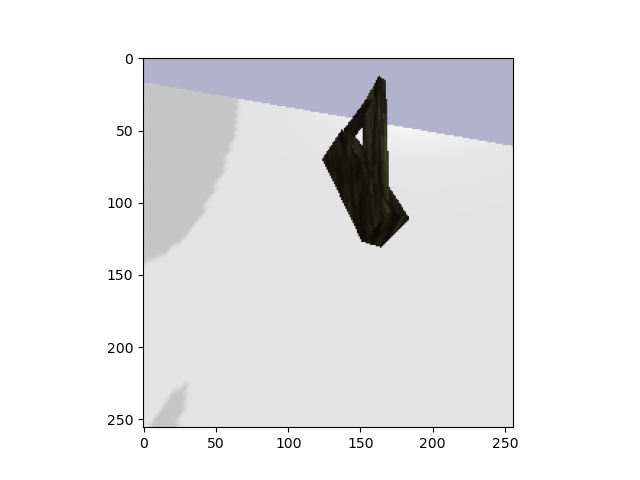v249b387_109: (309, 64, 425, 254)
